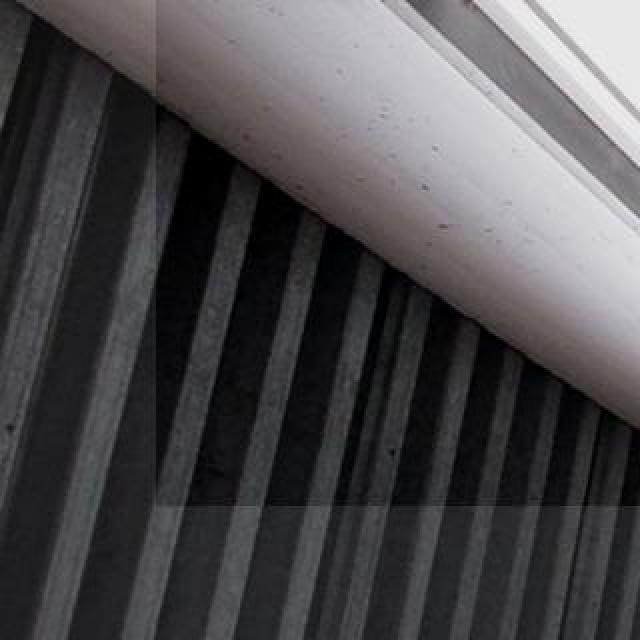fluorescent tube: (160, 0, 640, 508)
